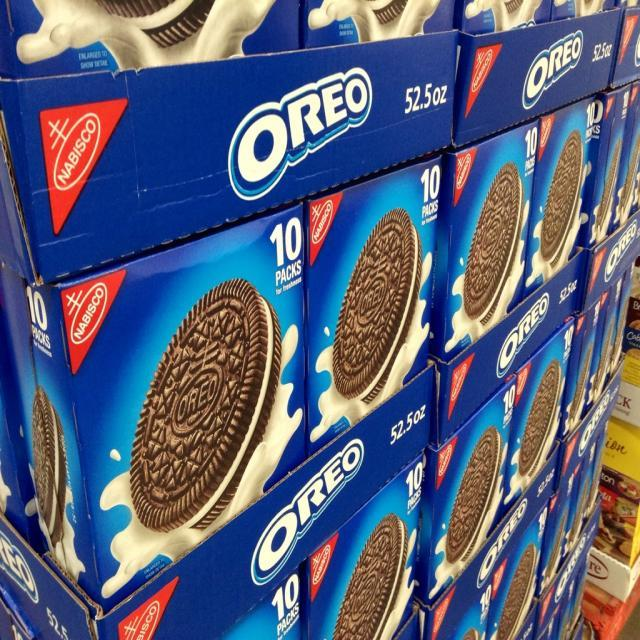Cookie: (127, 273, 281, 537), (330, 204, 425, 406), (459, 161, 524, 330), (332, 512, 410, 640), (446, 422, 503, 566), (536, 129, 586, 269), (29, 383, 69, 551), (93, 0, 214, 49), (519, 359, 563, 478), (495, 545, 537, 639), (591, 136, 621, 232), (569, 339, 595, 426), (542, 509, 567, 579), (620, 129, 640, 215), (596, 318, 616, 394), (567, 478, 591, 540), (365, 0, 410, 24), (502, 0, 527, 12)
